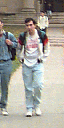person: (19, 17, 47, 111)
